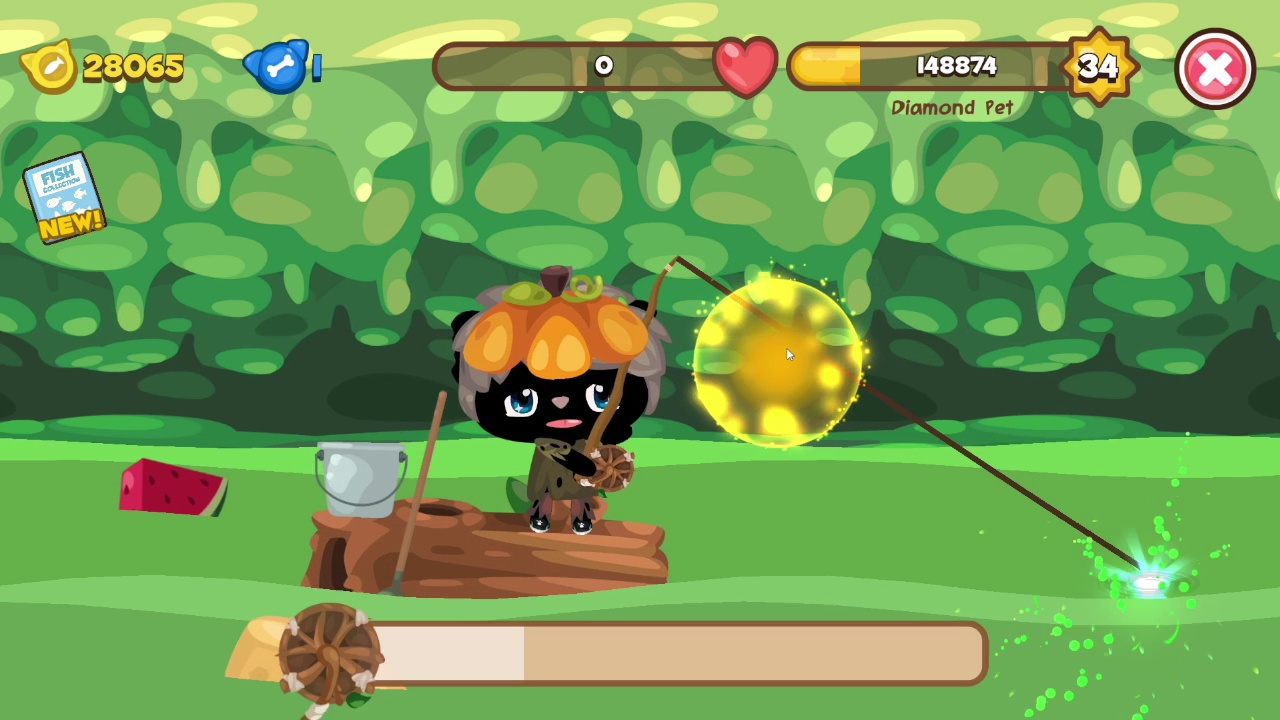point: (689, 275, 866, 450)
